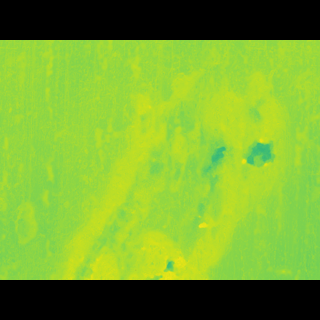Loch: (61, 90, 319, 251)
